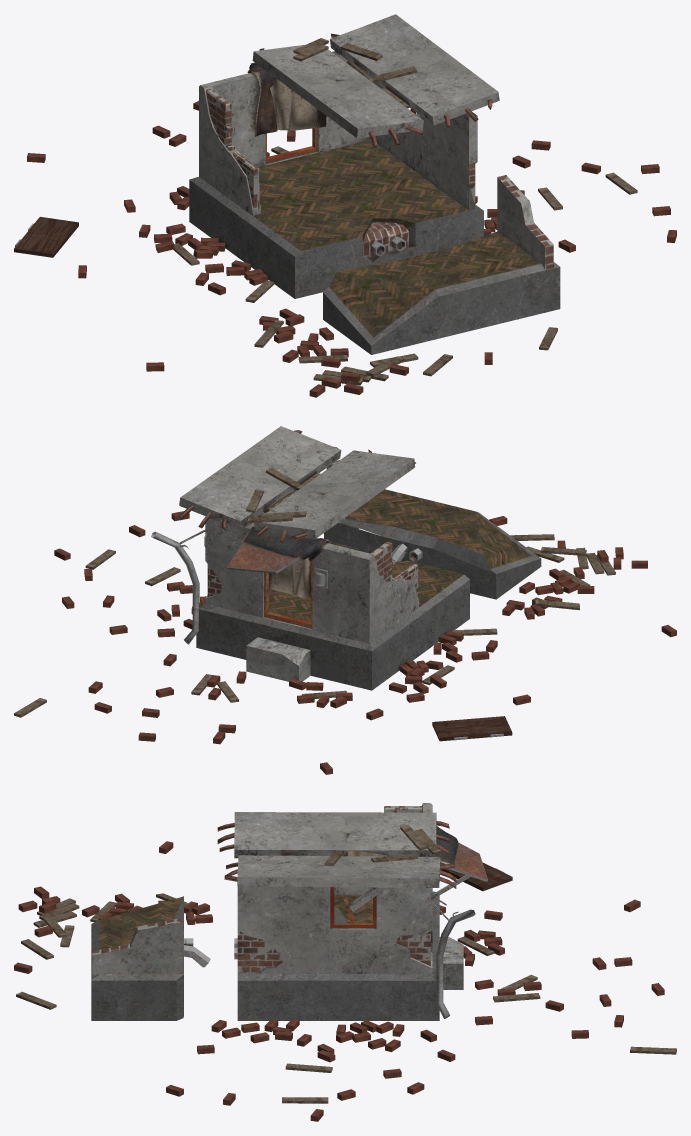
The model's file is ruined-building.glb.
The picture shows the model from 3 angles, top to bottom: view 1: azimuth 30°, elevation 25°; view 2: azimuth 150°, elevation 25°; view 3: azimuth 270°, elevation 25°; orthographic projection. The views are drawn at different scales.
Parts seen in each view (by area): view 1: RuinedBuilding_01_Ruined_0; view 2: RuinedBuilding_01_Ruined_0; view 3: RuinedBuilding_01_Ruined_0.
Part boxes in pixels (x1=…): RuinedBuilding_01_Ruined_0: x1=14, y1=14, x2=676, y2=397; RuinedBuilding_01_Ruined_0: x1=14, y1=426, x2=676, y2=774; RuinedBuilding_01_Ruined_0: x1=14, y1=803, x2=676, y2=1121.
Bounding box in the file's own units: 22 × 5.62 × 22.37.
Materials: 1 (1 with a texture image).
